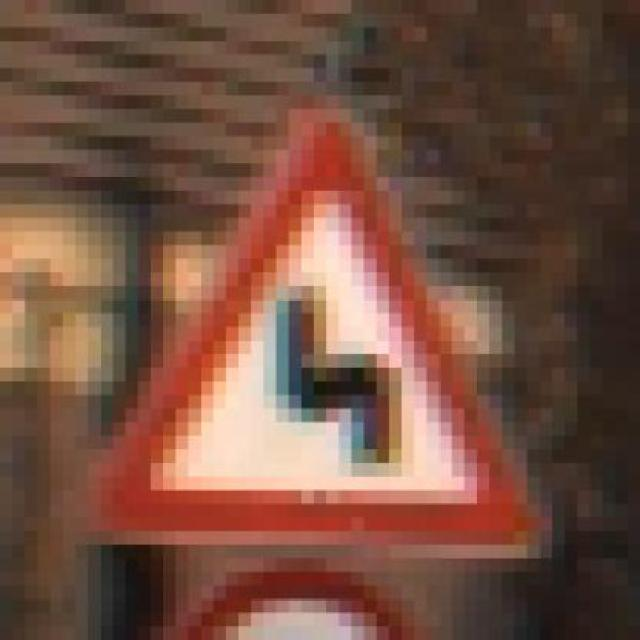Left Zig Zag Traffic: (75, 68, 552, 572)
